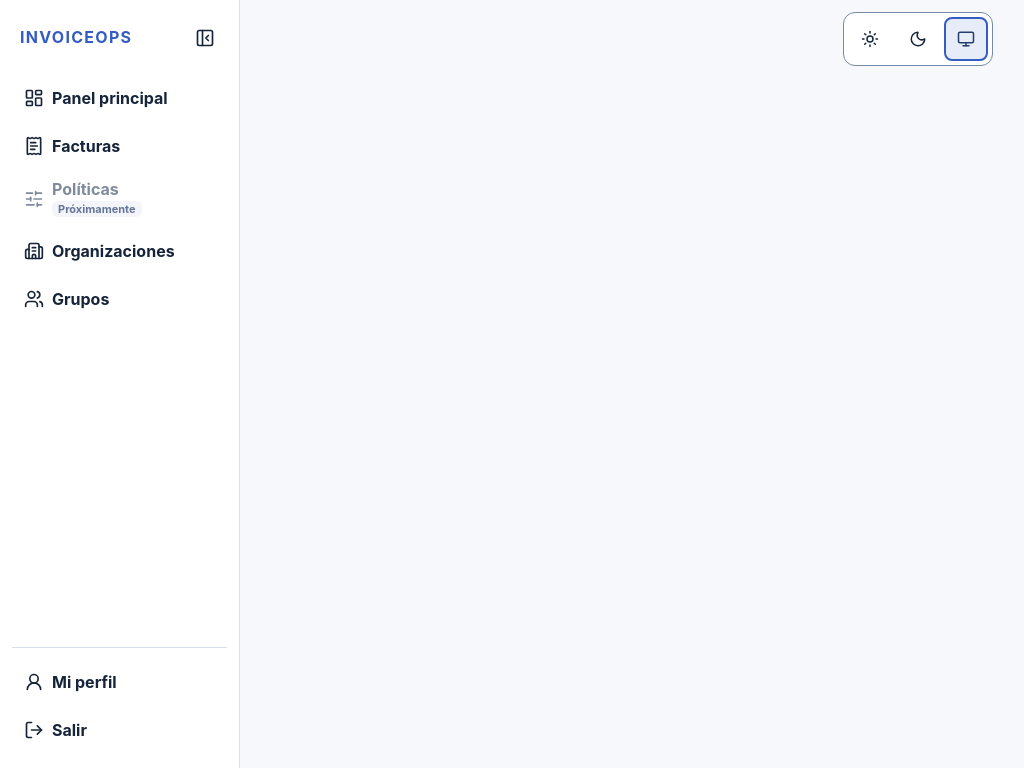
Test: APP12 S1 authorization context revalidation regressions › sets an anonymous title after leaving Facturas through logout, not the previous protected title
expect the navigation bar is shown: met, box left=12, top=76, right=227, bottom=752
Step 1. Click the link "Facturas" → (72, 146), box left=24, top=136, right=120, bottom=156
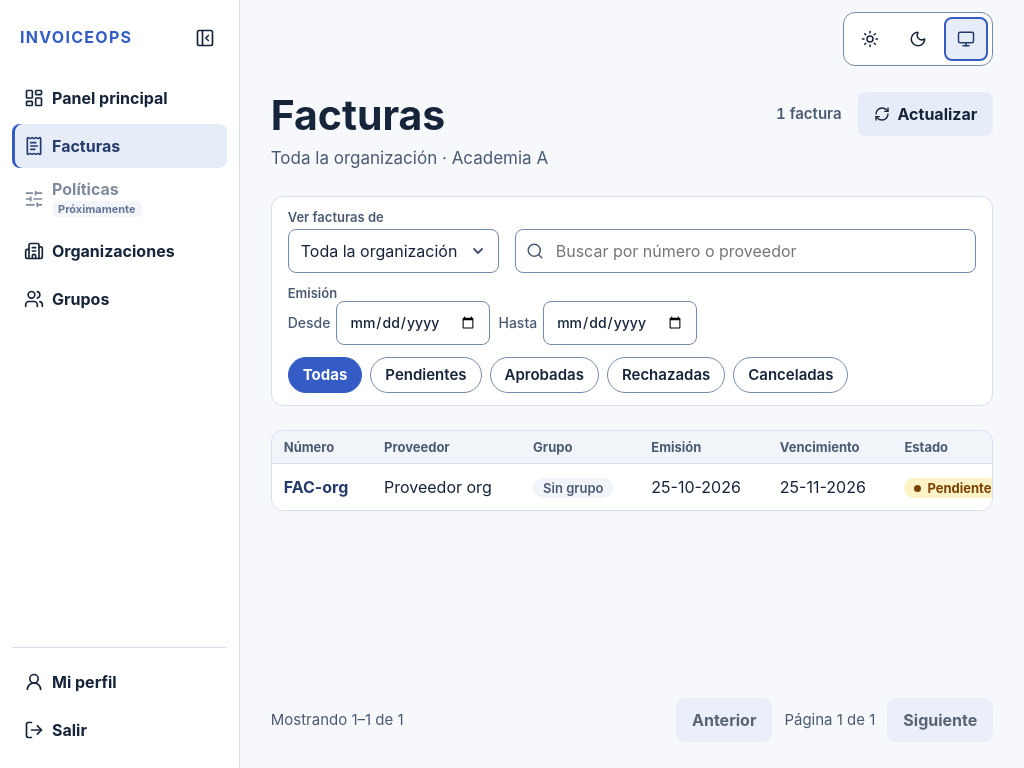
expect the text "Proveedor org" is shown: met, box left=372, top=463, right=521, bottom=510
Step 2. Click the button "Salir" → (120, 730), box left=12, top=708, right=227, bottom=752
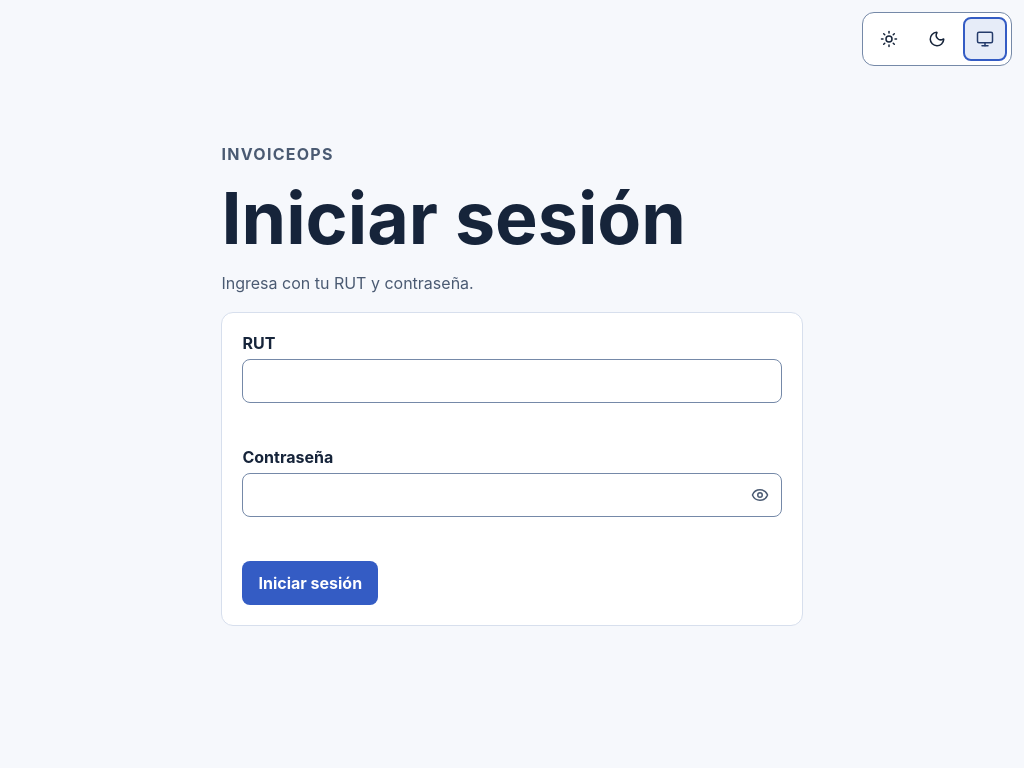
expect the button "Iniciar sesión" is shown: met, box left=242, top=561, right=378, bottom=605
expect the navigation bar is gone: met
